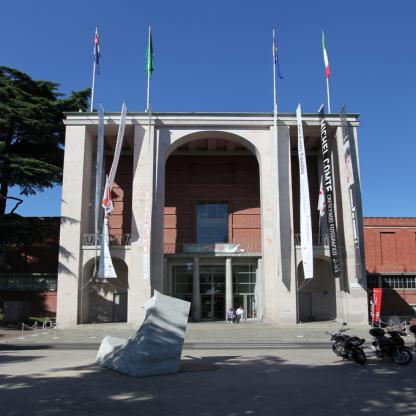motorcycle: (332, 331, 378, 365)
